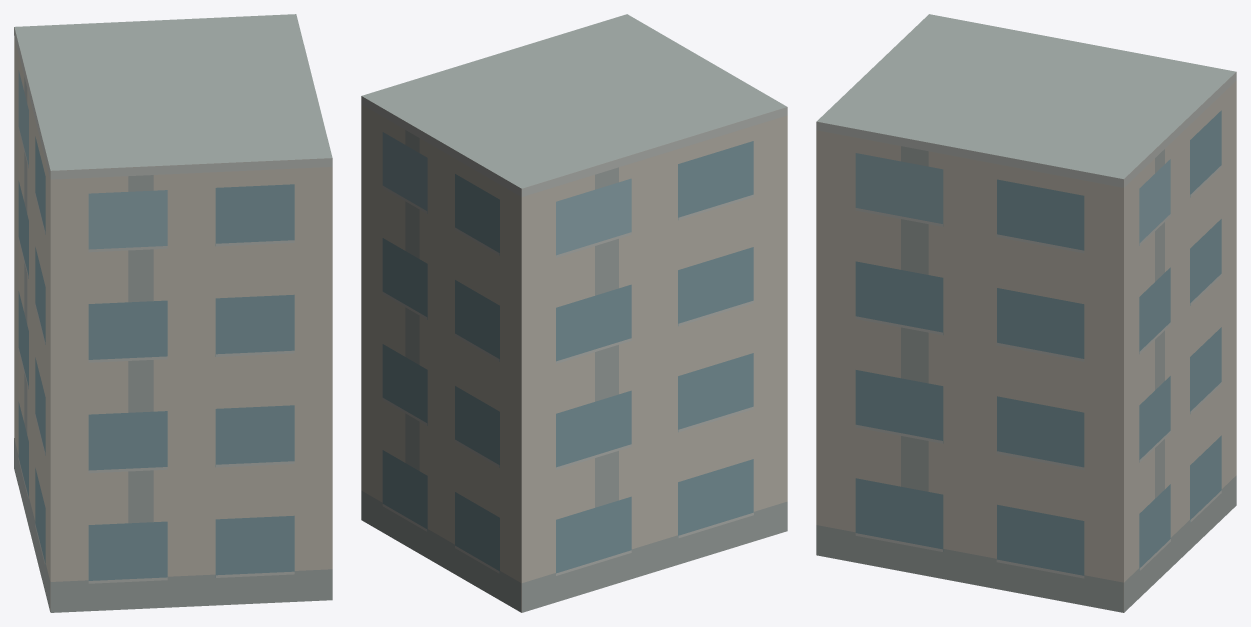
The model's file is residential-e18e79bb-8049-49d6-8b9d-3a0736071cc7.glb.
3 renders of one model, left to right at view 1: azimuth 30°, elevation 25°; view 2: azimuth 150°, elevation 25°; view 3: azimuth 270°, elevation 25°, orthographic. The views are drawn at different scales.
Visible parts, largest first — view 1: residential-e18e79bb-8049-49d6-8b9d-3a0736071cc7.tmp; view 2: residential-e18e79bb-8049-49d6-8b9d-3a0736071cc7.tmp; view 3: residential-e18e79bb-8049-49d6-8b9d-3a0736071cc7.tmp.
Boxes of the visible parts, bbox=[...] form: residential-e18e79bb-8049-49d6-8b9d-3a0736071cc7.tmp: bbox=[14, 14, 332, 612]; residential-e18e79bb-8049-49d6-8b9d-3a0736071cc7.tmp: bbox=[361, 14, 787, 612]; residential-e18e79bb-8049-49d6-8b9d-3a0736071cc7.tmp: bbox=[816, 14, 1236, 612].
Bounding box in the file's own units: 9.97 × 12.2 × 10.72.
